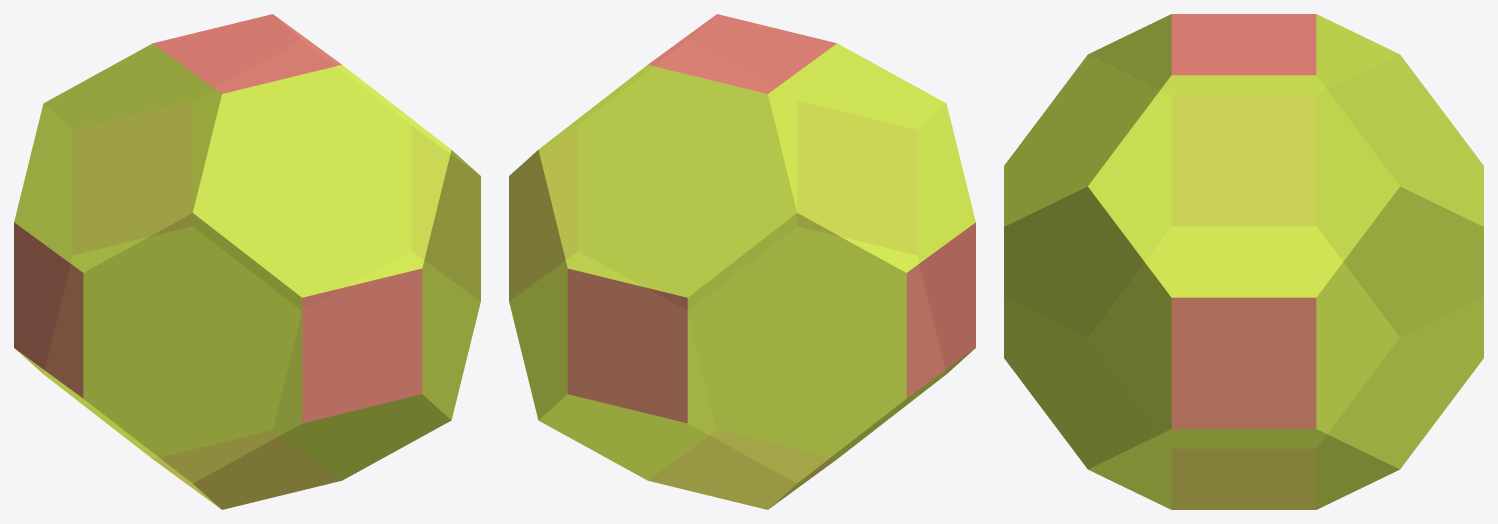
Rendered from ChamferedCube.obj.
3 renders of one model, left to right at view 1: azimuth 30°, elevation 25°; view 2: azimuth 150°, elevation 25°; view 3: azimuth 270°, elevation 25°, orthographic. The views are drawn at different scales.
Bounding box in the file's own units: 3.31 × 3.31 × 3.31.
